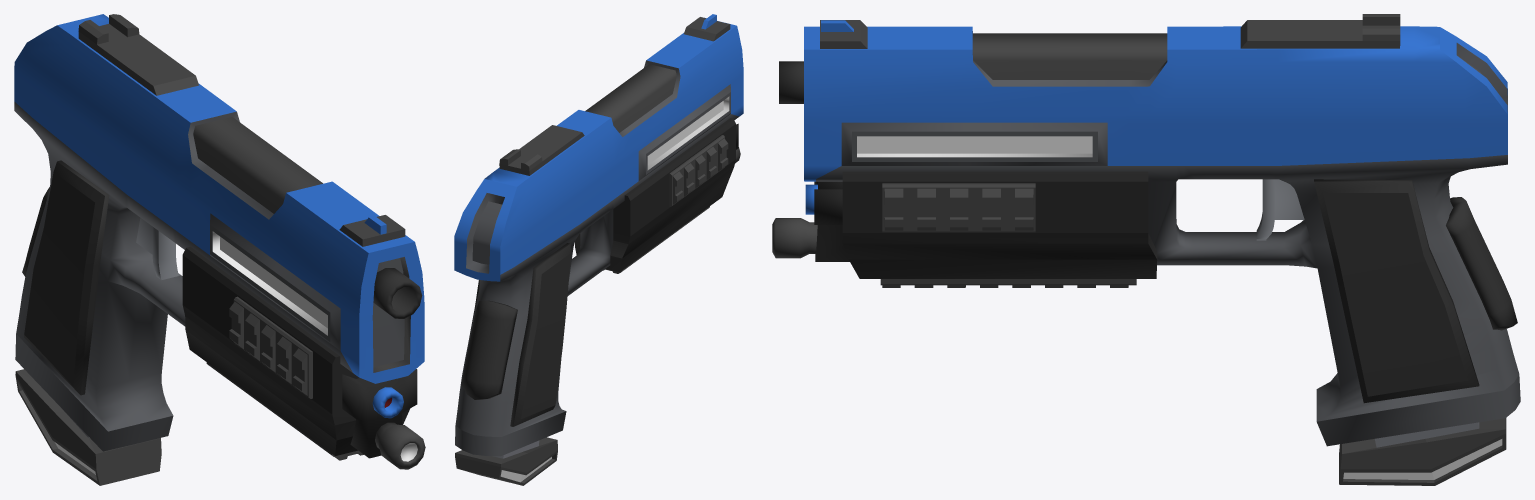
Rendered from PistolPrototype.fbx.
3 renders of one model, left to right at view 1: azimuth 30°, elevation 25°; view 2: azimuth 150°, elevation 25°; view 3: azimuth 270°, elevation 25°, orthographic. The views are drawn at different scales.
Parts seen in each view (by area): view 1: MG-1903; view 2: MG-1903; view 3: MG-1903.
Boxes of the visible parts, x1,y1,x2,y2 form: MG-1903: (14,14,425,485); MG-1903: (454,14,743,485); MG-1903: (772,14,1520,485).
Size of the model in its own units: 9.2 by 38.4 by 57.96.
